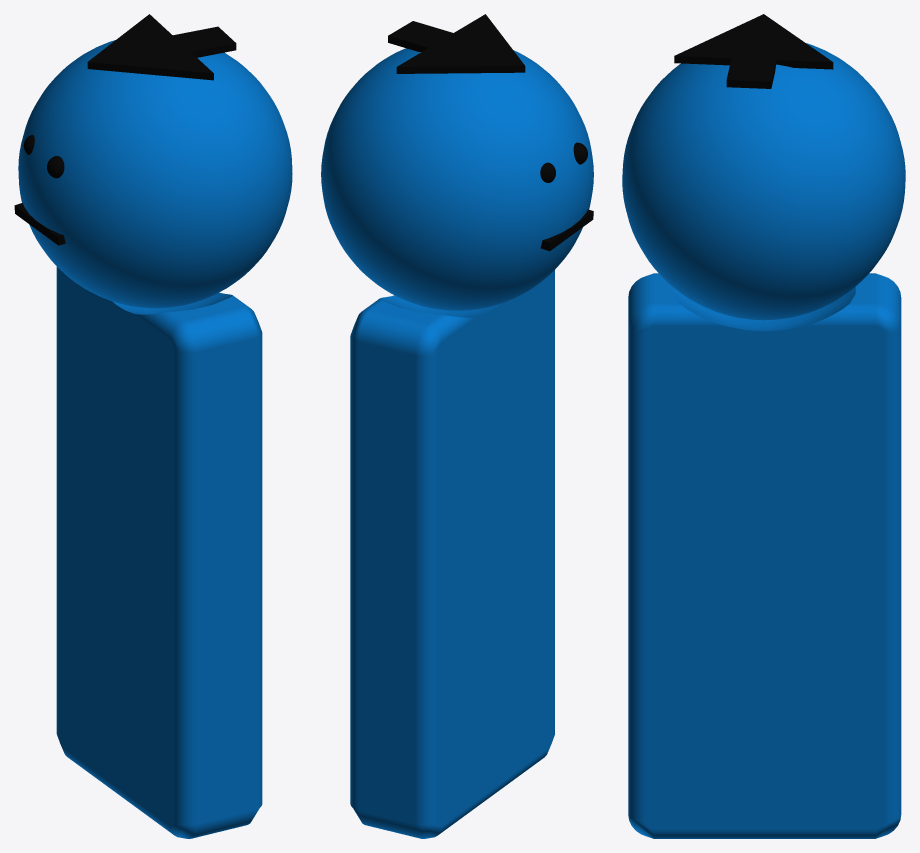
Rendered from blue_poker.obj.
3 views of the same model, side by side, from view 1: azimuth 30°, elevation 25°; view 2: azimuth 150°, elevation 25°; view 3: azimuth 270°, elevation 25° (orthographic). The views are drawn at different scales.
Visible parts, largest first — view 1: 1_Curve.002_Curve.002, 5.002_Curve.002_Curve.002; view 2: 1_Curve.002_Curve.002, 5.002_Curve.002_Curve.002; view 3: 1_Curve.002_Curve.002, 5.002_Curve.002_Curve.002.
Boxes of the visible parts, box(x1,y1,x2,y2) form: 1_Curve.002_Curve.002: box(18, 40, 292, 838); 5.002_Curve.002_Curve.002: box(14, 14, 236, 245); 1_Curve.002_Curve.002: box(321, 48, 593, 838); 5.002_Curve.002_Curve.002: box(388, 14, 593, 251); 1_Curve.002_Curve.002: box(622, 43, 905, 838); 5.002_Curve.002_Curve.002: box(674, 14, 833, 88).
Bounding box in the file's own units: 0.1662 × 0.4993 × 0.1661.
